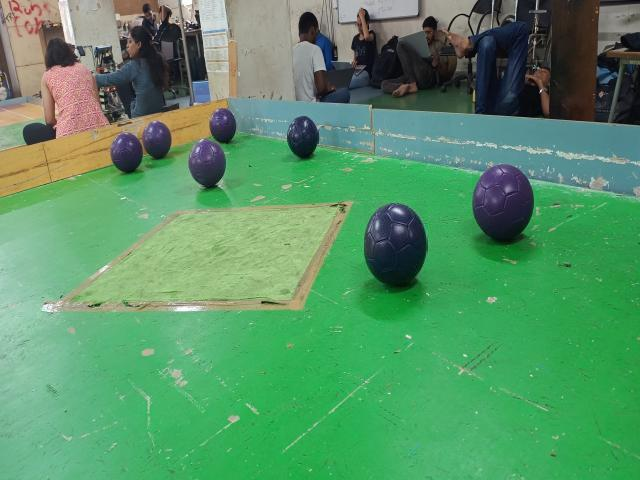jambhalya: (473, 165, 534, 240), (189, 140, 226, 186), (110, 132, 142, 173), (143, 120, 171, 158), (210, 109, 237, 143)
kaalyya: (365, 203, 427, 287), (287, 117, 318, 158)
